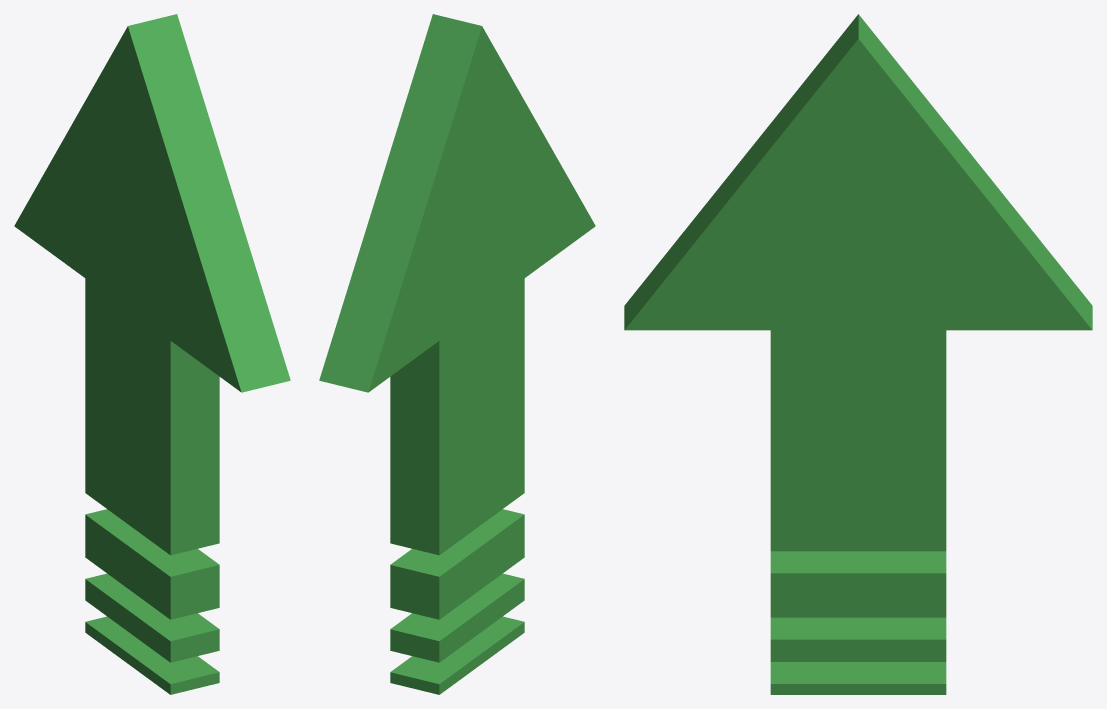
Rendered from destination.gltf.
3 views of the same model, side by side, from view 1: azimuth 30°, elevation 25°; view 2: azimuth 150°, elevation 25°; view 3: azimuth 270°, elevation 25° (orthographic). The views are drawn at different scales.
Parts seen in each view (by area): view 1: Cube; view 2: Cube; view 3: Cube.
Part boxes in pixels (<box>): Cube: <box>14,14,290,694</box>; Cube: <box>319,14,595,694</box>; Cube: <box>624,14,1092,694</box>.
Size of the model in its own units: 20 by 248 by 160.
